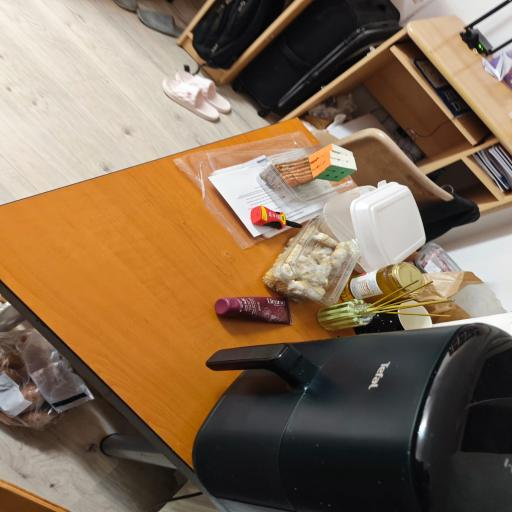Crema Maini: (213, 295, 297, 329)
Rubiks Cube: (307, 144, 359, 184)
Super Glue: (246, 202, 304, 235)
